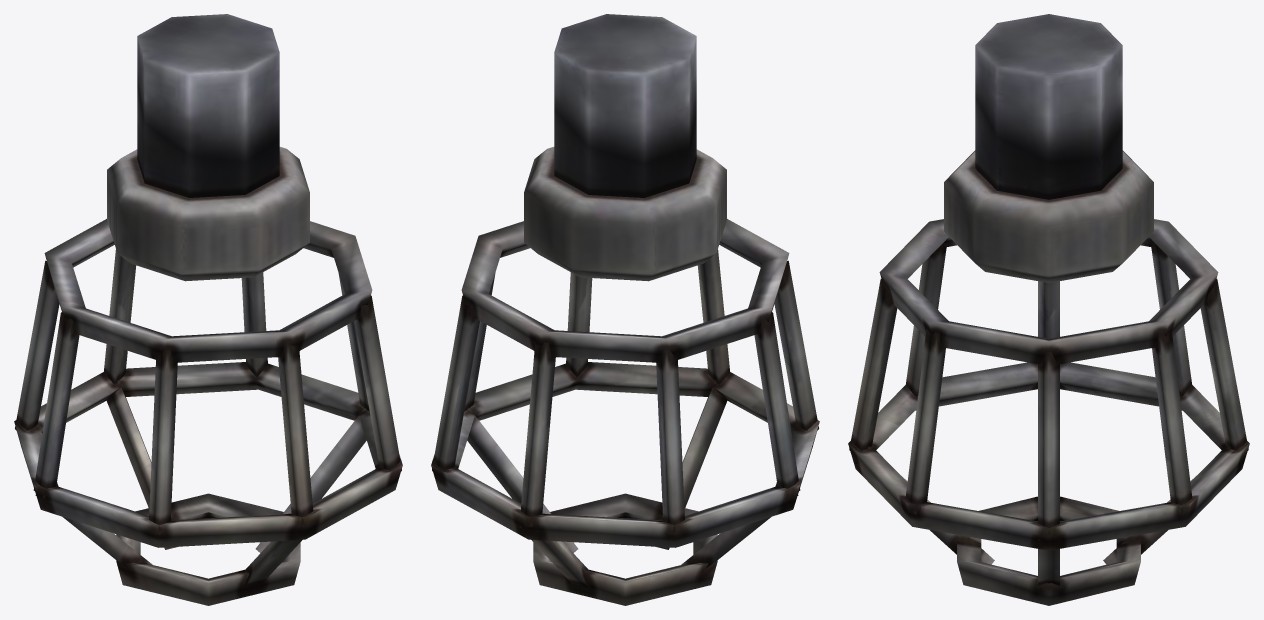
File: lampada_gaiola.glb
3 renders of one model, left to right at view 1: azimuth 30°, elevation 25°; view 2: azimuth 150°, elevation 25°; view 3: azimuth 270°, elevation 25°, orthographic.
Parts seen in each view (by area): view 1: lampada_gaiola; view 2: lampada_gaiola; view 3: lampada_gaiola.
Boxes of the visible parts, bbox=[...] form: lampada_gaiola: bbox=[14, 14, 402, 605]; lampada_gaiola: bbox=[431, 14, 819, 605]; lampada_gaiola: bbox=[848, 14, 1249, 605].
Bounding box in the file's own units: 0.1916 × 0.2771 × 0.1913.
Materials: 1 (1 with a texture image).
